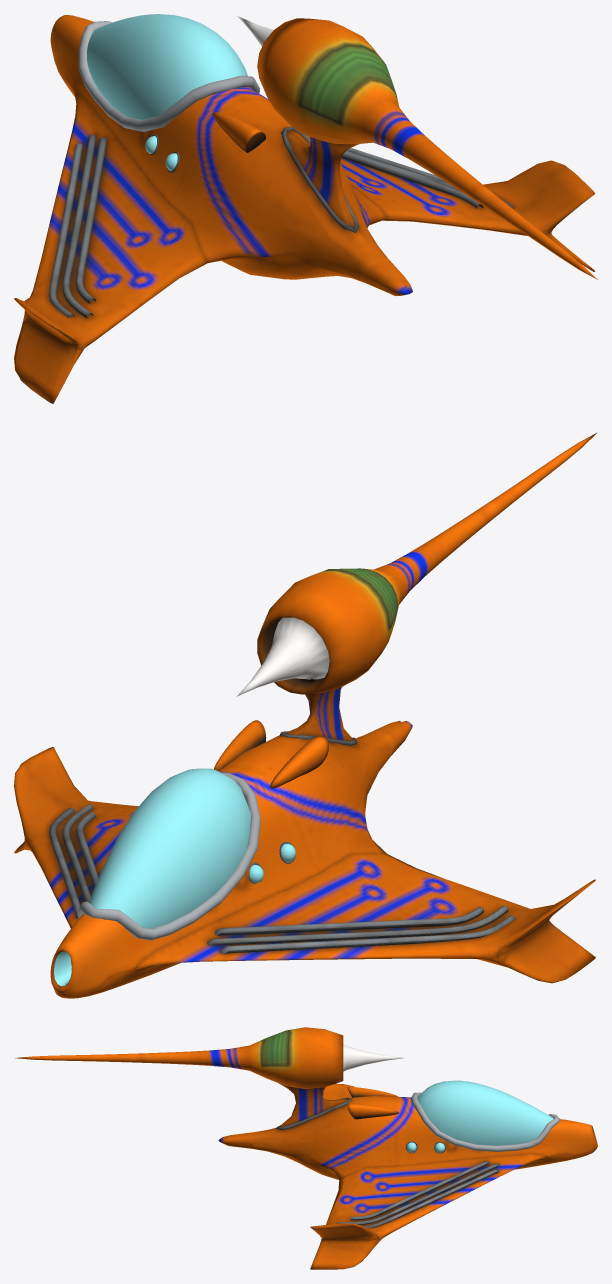
The model's file is ship.obj.
The picture shows the model from 3 angles, top to bottom: view 1: azimuth 30°, elevation 25°; view 2: azimuth 150°, elevation 25°; view 3: azimuth 270°, elevation 25°; orthographic projection. The views are drawn at different scales.
Parts seen in each view (by area): view 1: p1_wedge_geo1; view 2: p1_wedge_geo1; view 3: p1_wedge_geo1.
Boxes of the visible parts, <box> form: p1_wedge_geo1: <box>14,14,597,403</box>; p1_wedge_geo1: <box>14,432,597,998</box>; p1_wedge_geo1: <box>15,1027,597,1269</box>.
Bounding box in the file's own units: 1854 × 1007 × 3176.
Materials: 3 (1 with a texture image).
